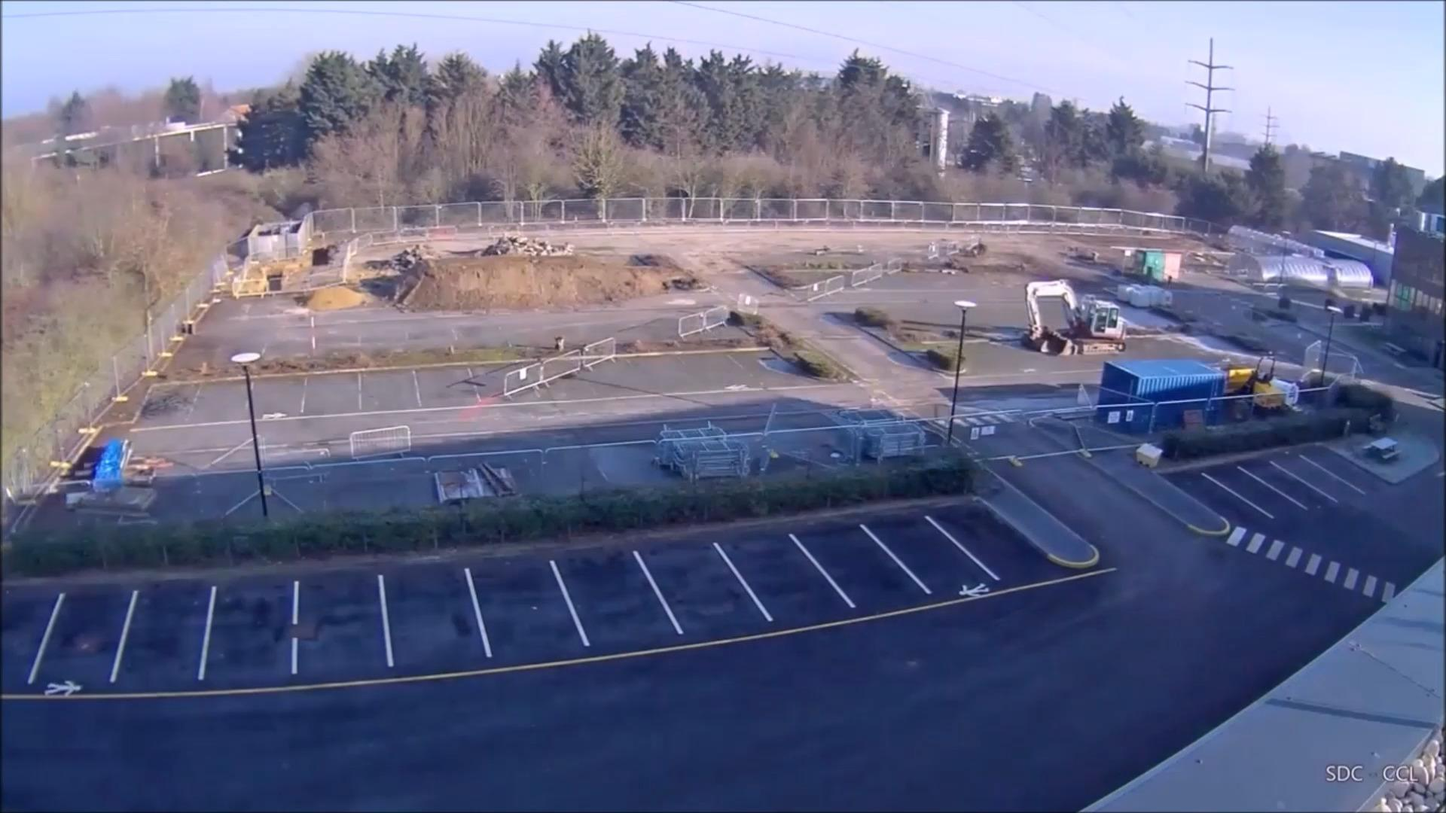free: (148, 607, 190, 644), (411, 578, 453, 615), (318, 602, 360, 639), (591, 578, 633, 615), (835, 535, 877, 572), (754, 544, 795, 581), (234, 603, 276, 639), (60, 617, 102, 653), (667, 557, 709, 593), (969, 516, 1011, 552), (906, 530, 948, 566), (504, 590, 545, 626), (1197, 483, 1230, 504), (1274, 459, 1295, 492), (1241, 482, 1265, 499), (1310, 464, 1334, 481), (1330, 448, 1354, 465)
